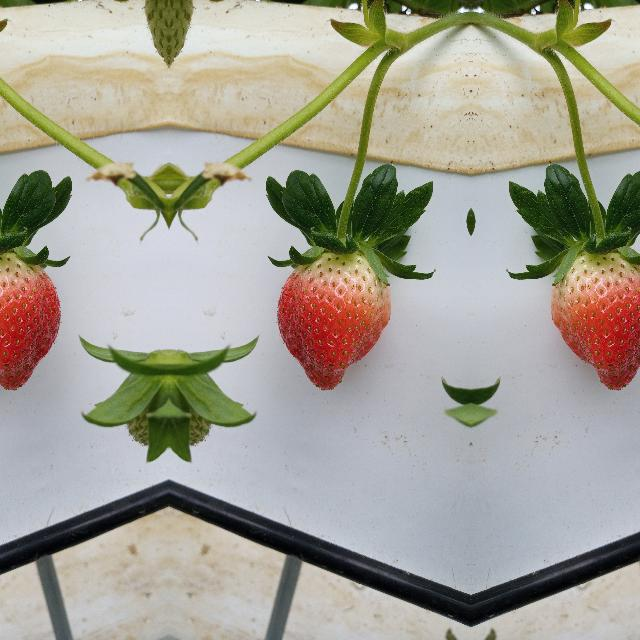Health_100: (276, 251, 392, 391), (548, 251, 640, 391), (0, 251, 60, 391)
